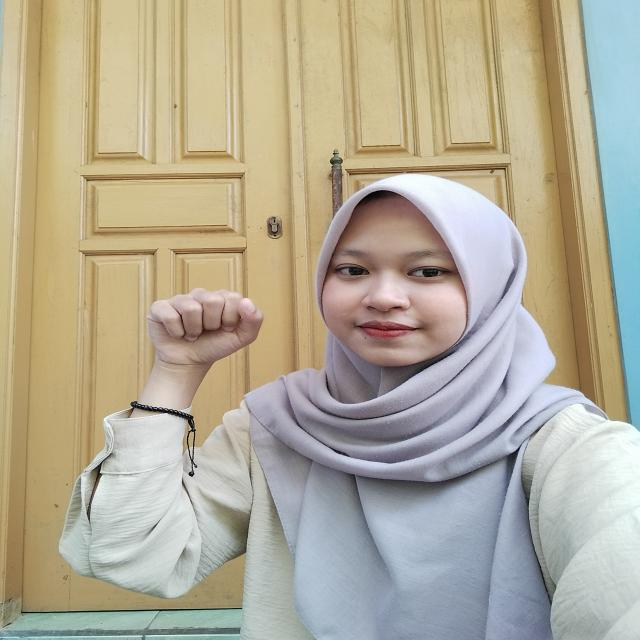baik: (127, 282, 266, 421)
